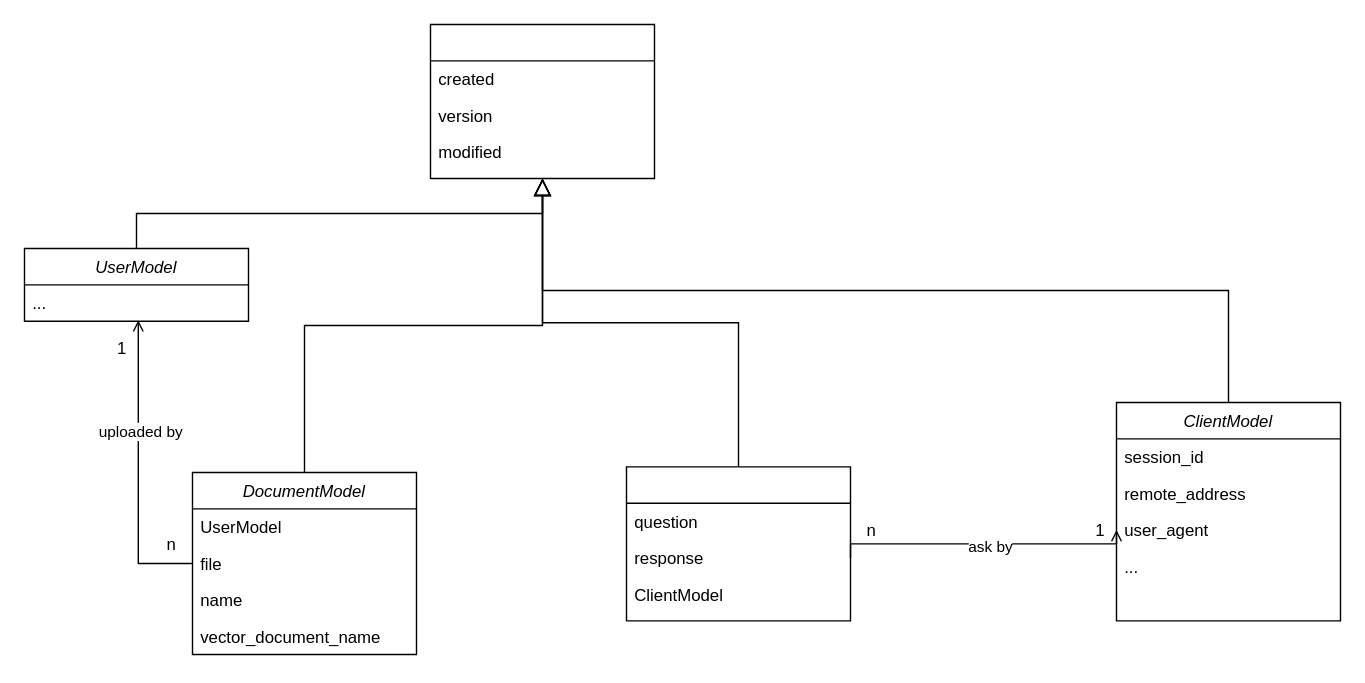
Some shapes in this 1365 by 683 pixel diagram are drawn without their labels. The box of each missing label's shape, as (x1, y1, x2, y2) in pixels:
BaseModel(abstract): (429, 23, 654, 178)
ChatModel: (625, 465, 850, 621)
